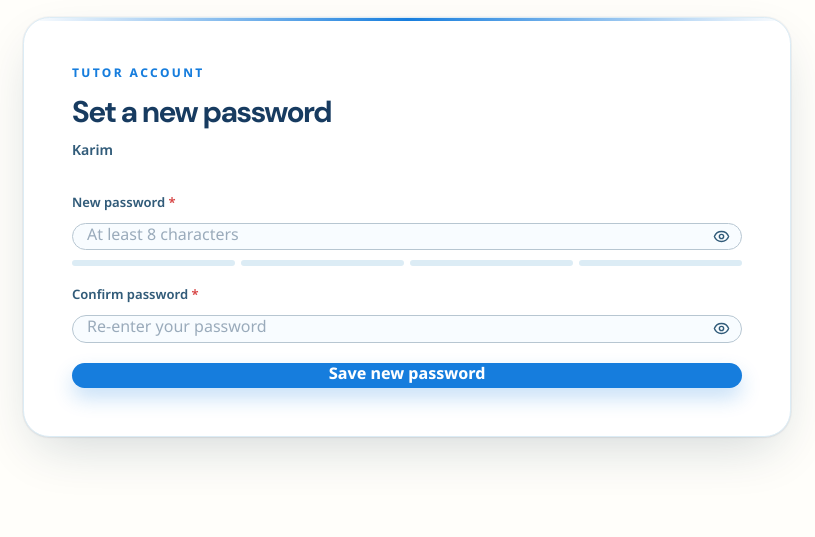
it: ResetPassword › sets a new password and sends a Tutor to the Tutor sign-in
Expected: the heading reads "Set a new password", [72,92,331,131]
Expected: the text "Tutor account" is shown, [72,66,205,82]
Type "fresh-pass-2026" into the password field labelled "New password *" at [407, 237], box [72,223,742,250]
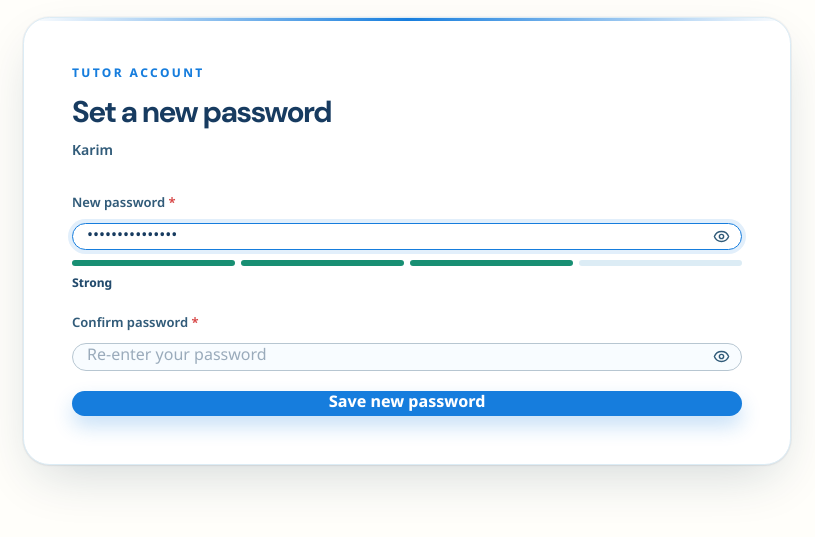
Type "fresh-pass-2026" into the password field labelled "Confirm password *" at [407, 357], box [72,343,742,371]
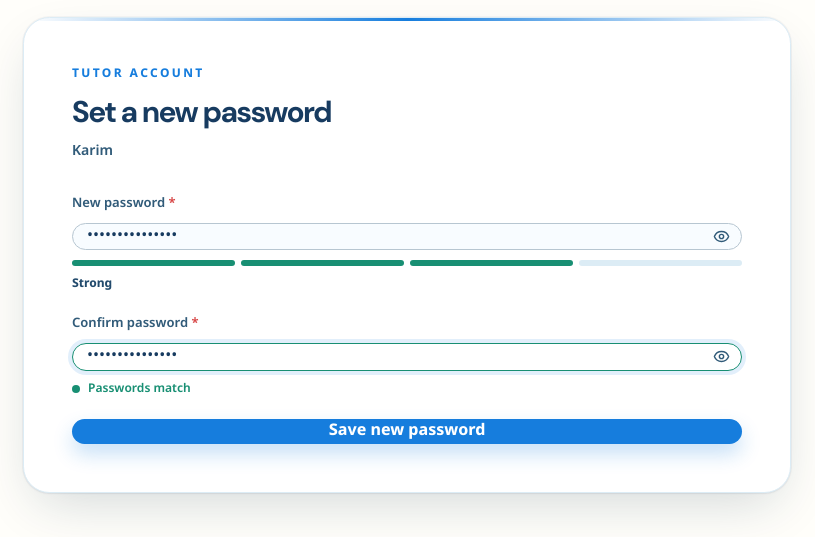
Click the button "Save new password" at [407, 432], box [72,419,742,444]
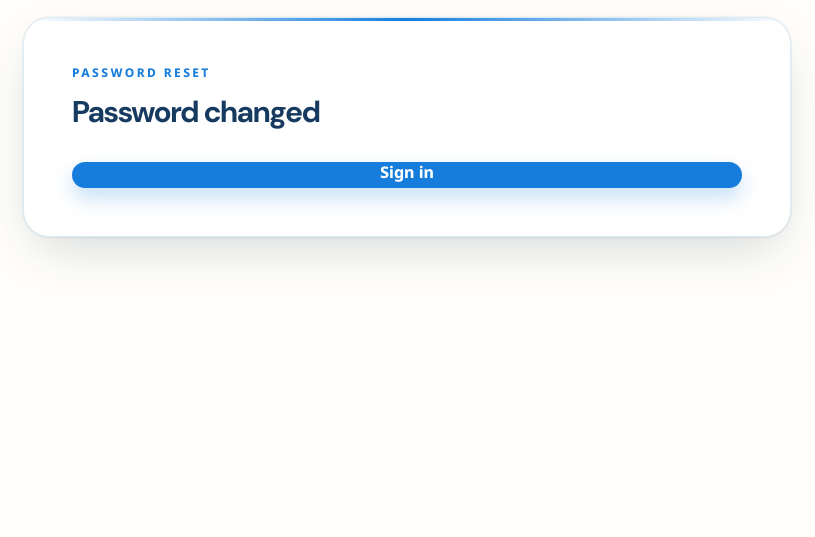
Expected: the heading "Password changed" is shown, [72,92,320,131]
